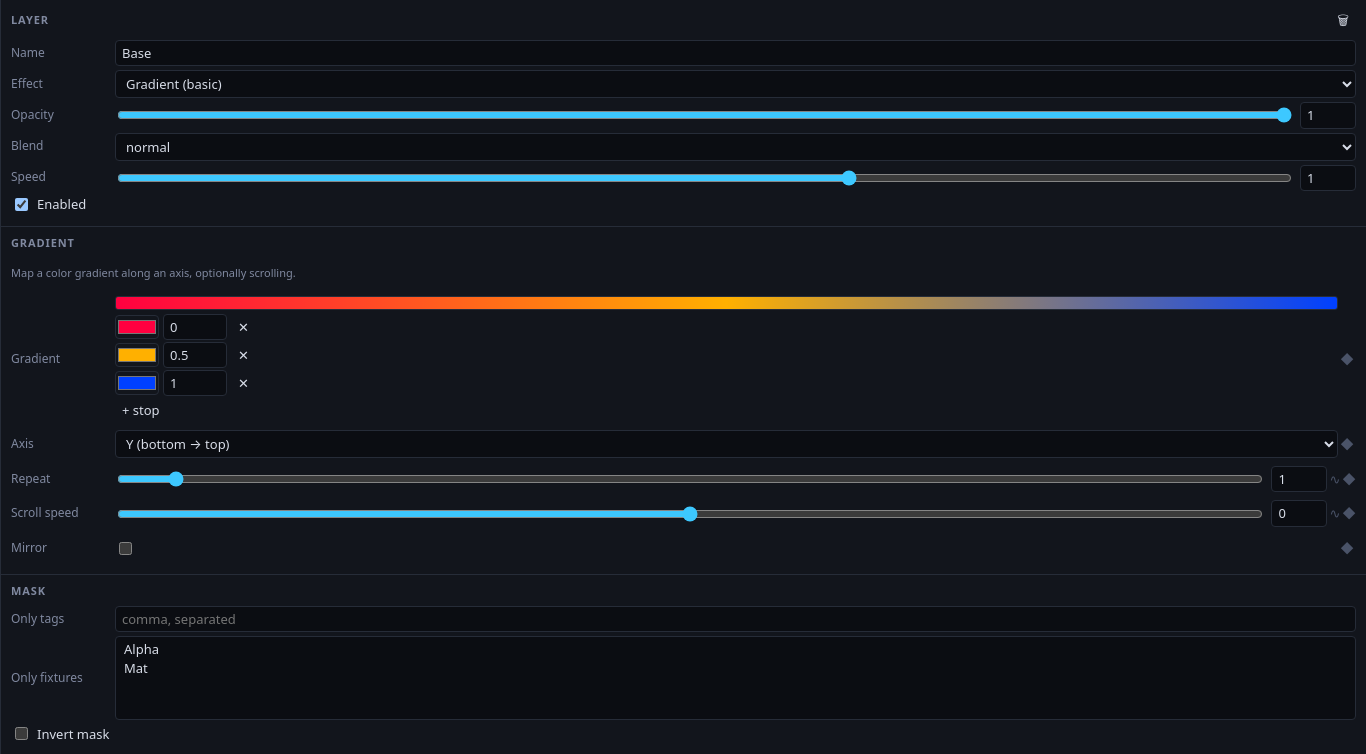
Inspector › renders every param type for a layer and toggles keyframes
Expected: the colour field named "stop 1 color" is shown, [115,315,159,339]
Click the button "+ stop": (141, 410) [115,398,167,422]
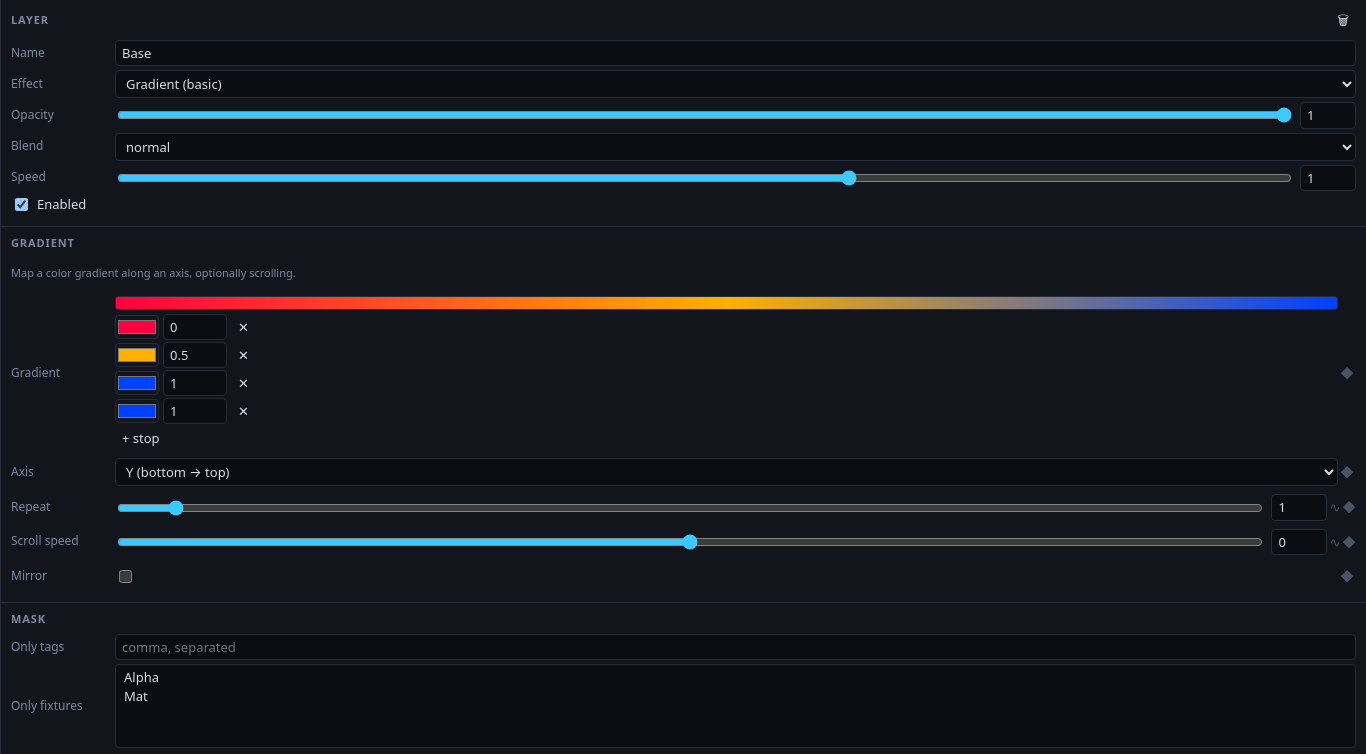
Select "X (left → right)" in the dropdown named "Axis": (727, 472) [115,458,1338,486]
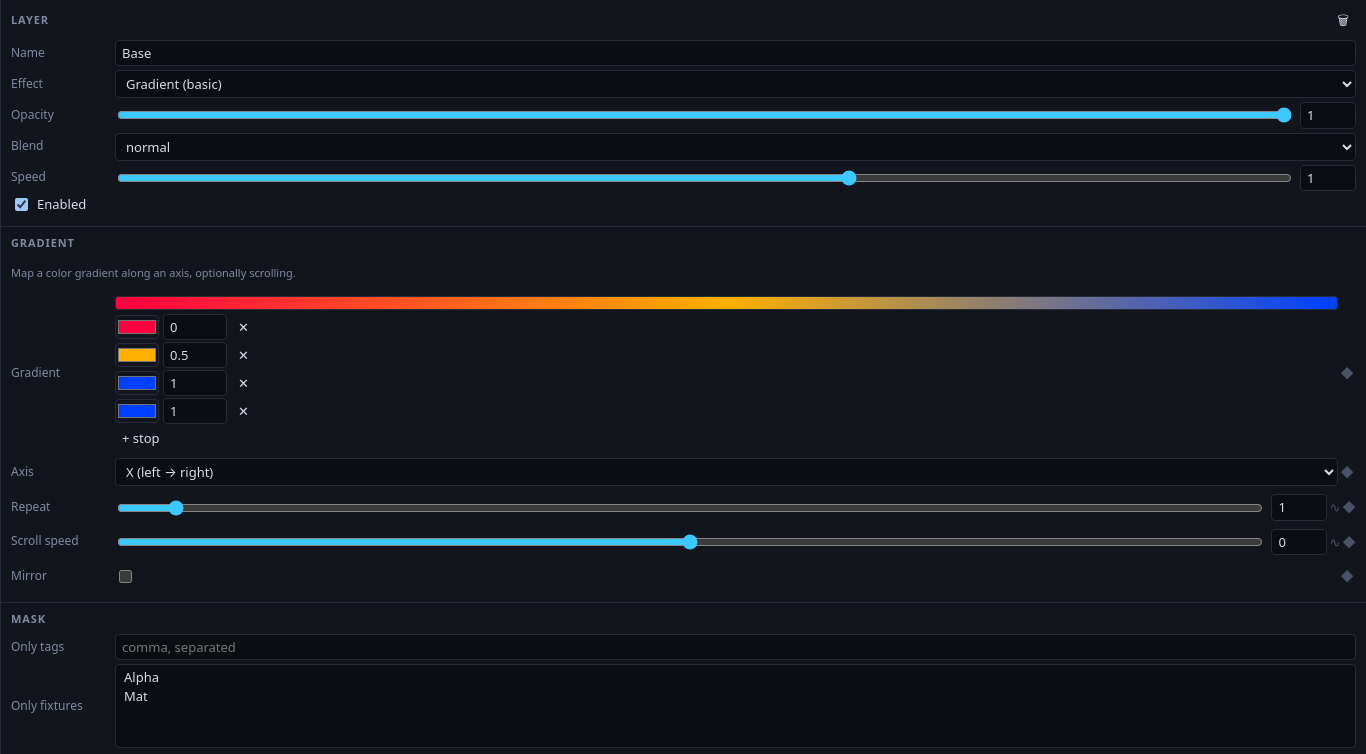
Click the button named "keyframe Repeat": (1349, 508) [1342,498,1356,517]
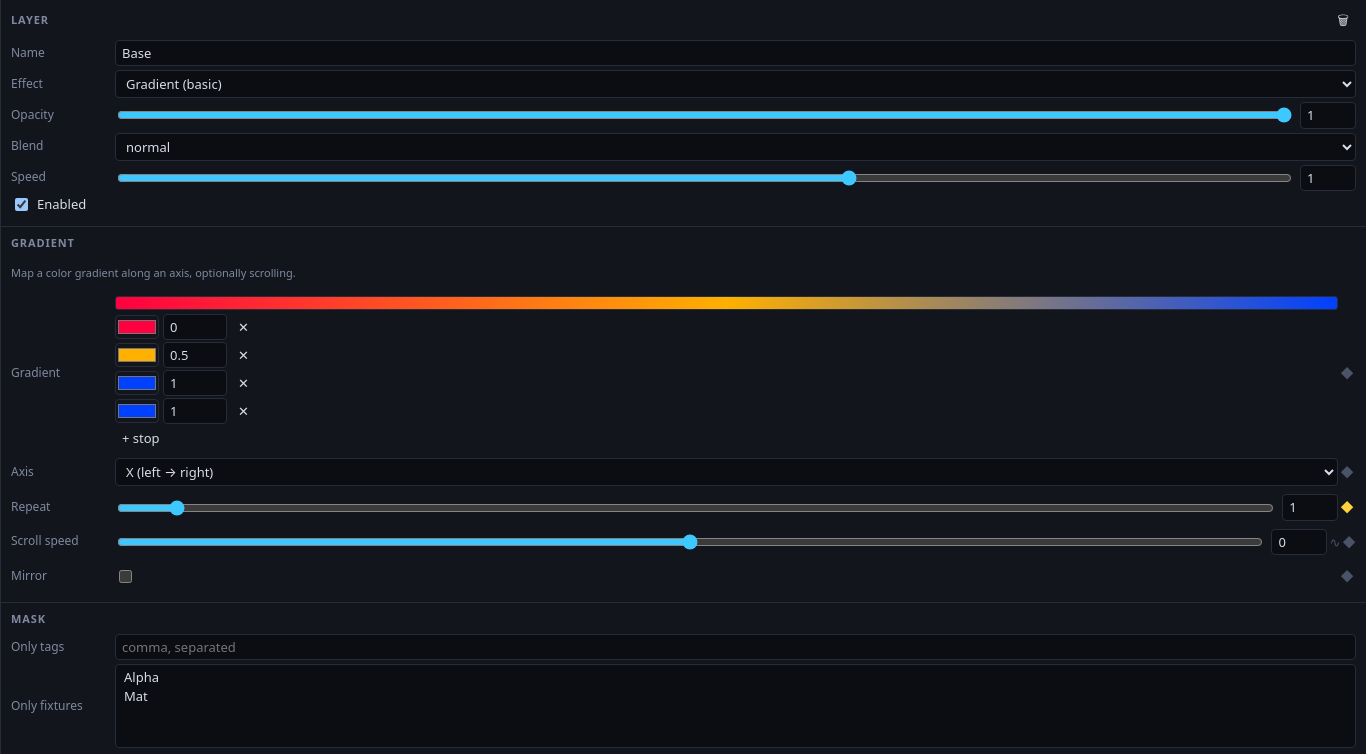
Click the button named "keyframe Repeat": (1347, 508) [1340,498,1354,517]
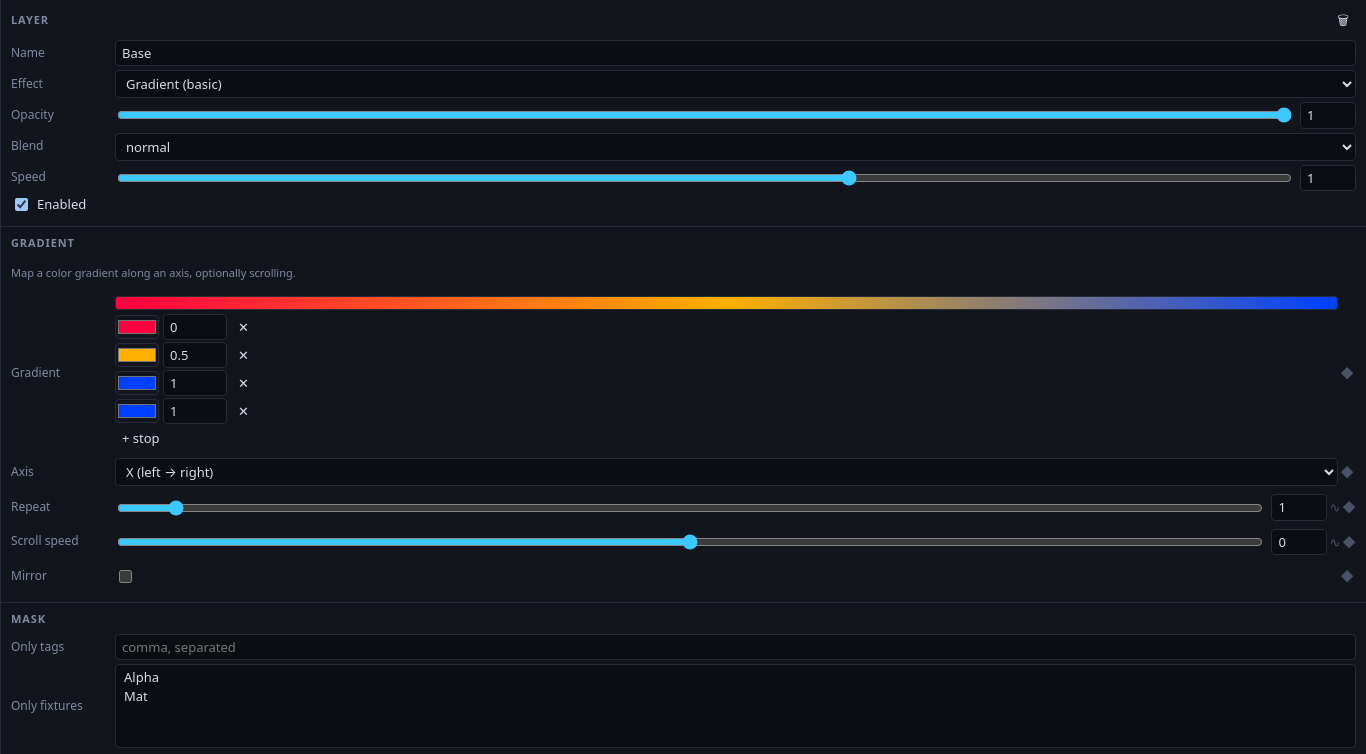
Set the slider named "Repeat" to "3": (290, 508) [117,500,1263,516]
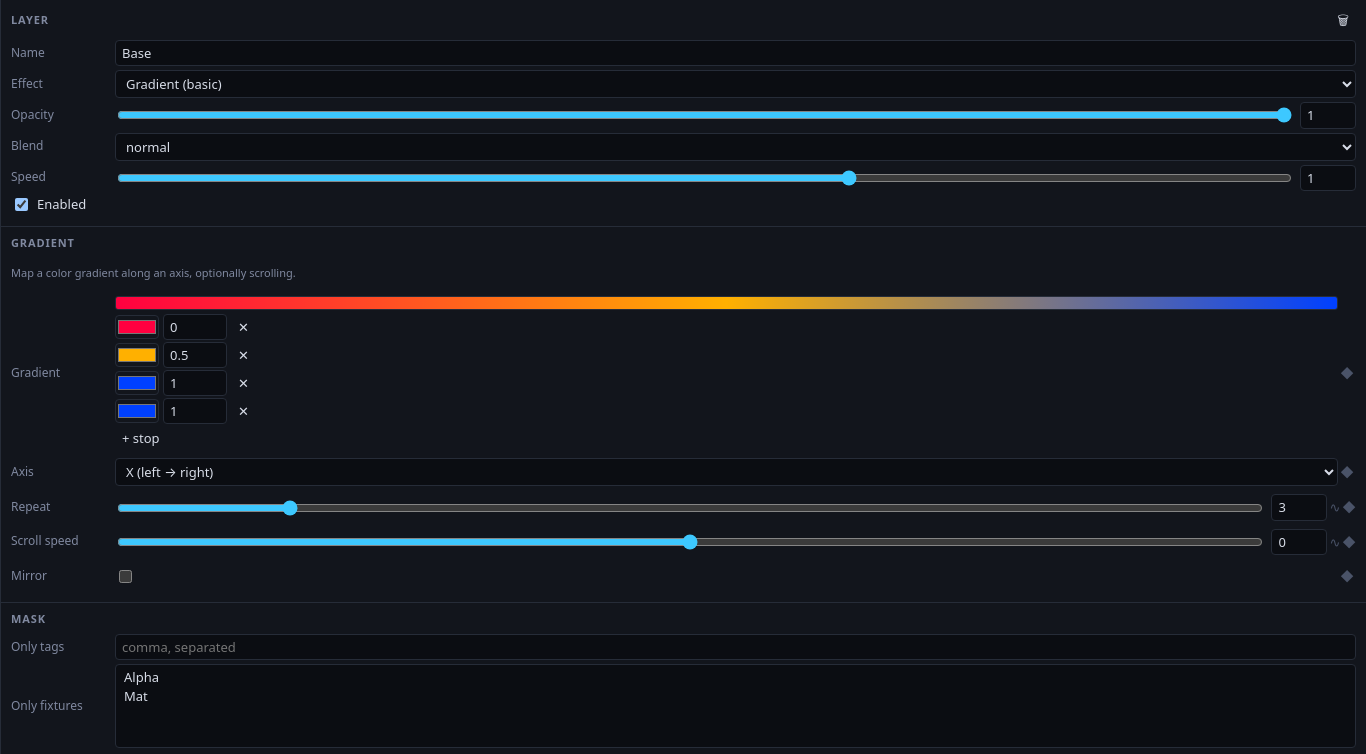
Select "Orb (spatial)" in the dropdown named "effect": (736, 84) [115,70,1356,98]
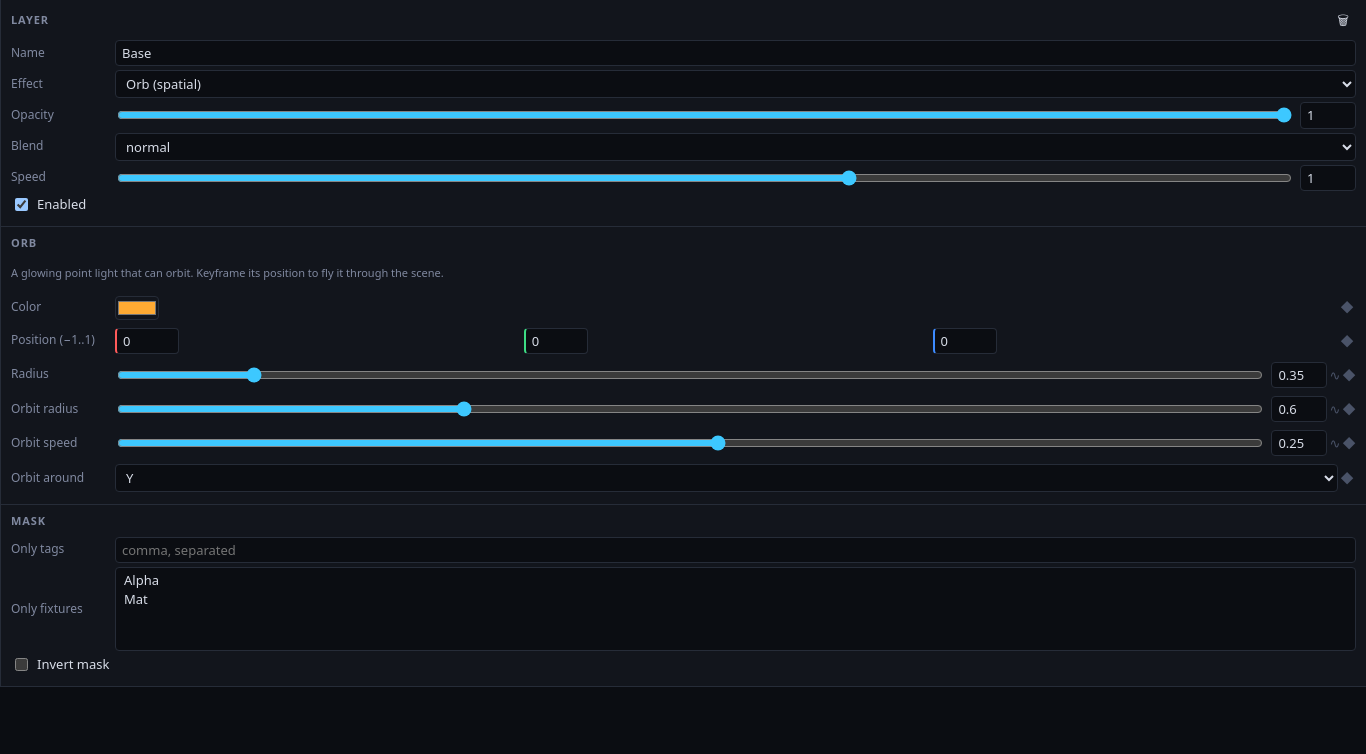
Now the field named "Position (−1..1) x" is shown, box [115,328,179,354]
